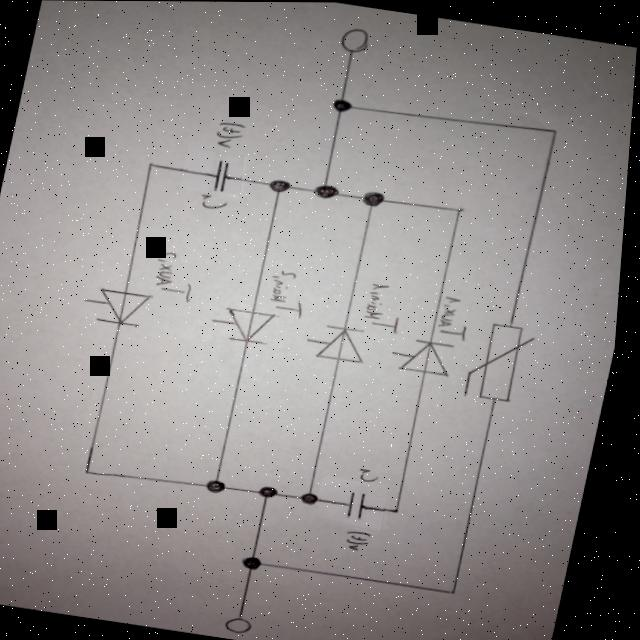capacitor: (351, 488, 380, 521), (213, 157, 238, 193)
junction: (315, 181, 346, 201), (365, 189, 391, 208), (248, 553, 274, 572), (270, 177, 297, 194), (212, 477, 237, 495), (333, 96, 357, 114), (264, 483, 289, 500), (306, 490, 329, 507), (398, 505, 411, 514), (148, 160, 159, 169), (459, 205, 471, 213), (458, 587, 470, 595), (552, 127, 563, 135), (90, 469, 100, 476)
terminal: (339, 24, 374, 55), (232, 612, 265, 636)
text: (153, 246, 207, 304), (268, 266, 317, 319), (366, 281, 414, 334), (440, 294, 482, 342), (214, 117, 252, 151), (351, 527, 384, 554), (201, 191, 235, 212), (364, 466, 391, 485)
thyristor: (94, 284, 162, 331), (221, 303, 288, 347), (402, 335, 465, 377), (319, 322, 379, 364)
